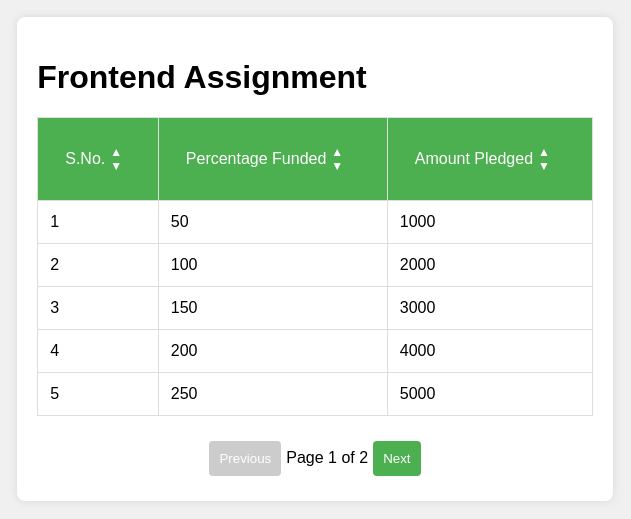
Test: renders projects and pagination
This screenshot has width=631, height=519.
Expected: the text "Page 1 of 2" is shown, top-left (286, 449), bottom-right (368, 467)
Expected: the text "1000" is shown, top-left (387, 200), bottom-right (592, 243)
Click the button "Next": (397, 458) top-left (373, 441), bottom-right (420, 476)
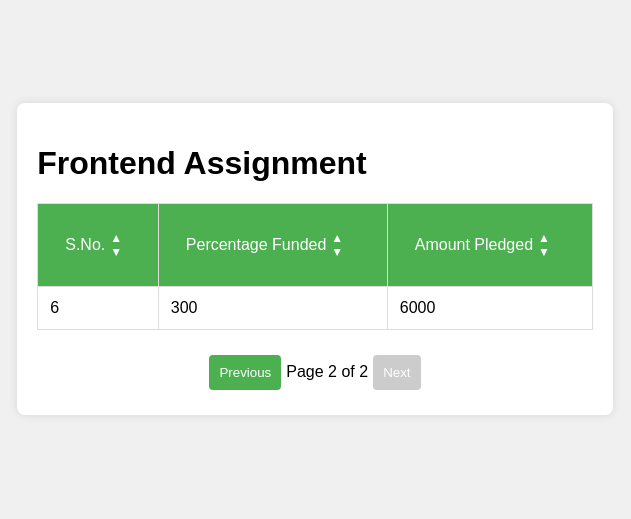
Expected: the text "Page 2 of 2" is shown, top-left (286, 363), bottom-right (368, 381)
Expected: the text "6000" is shown, top-left (387, 286), bottom-right (592, 329)
